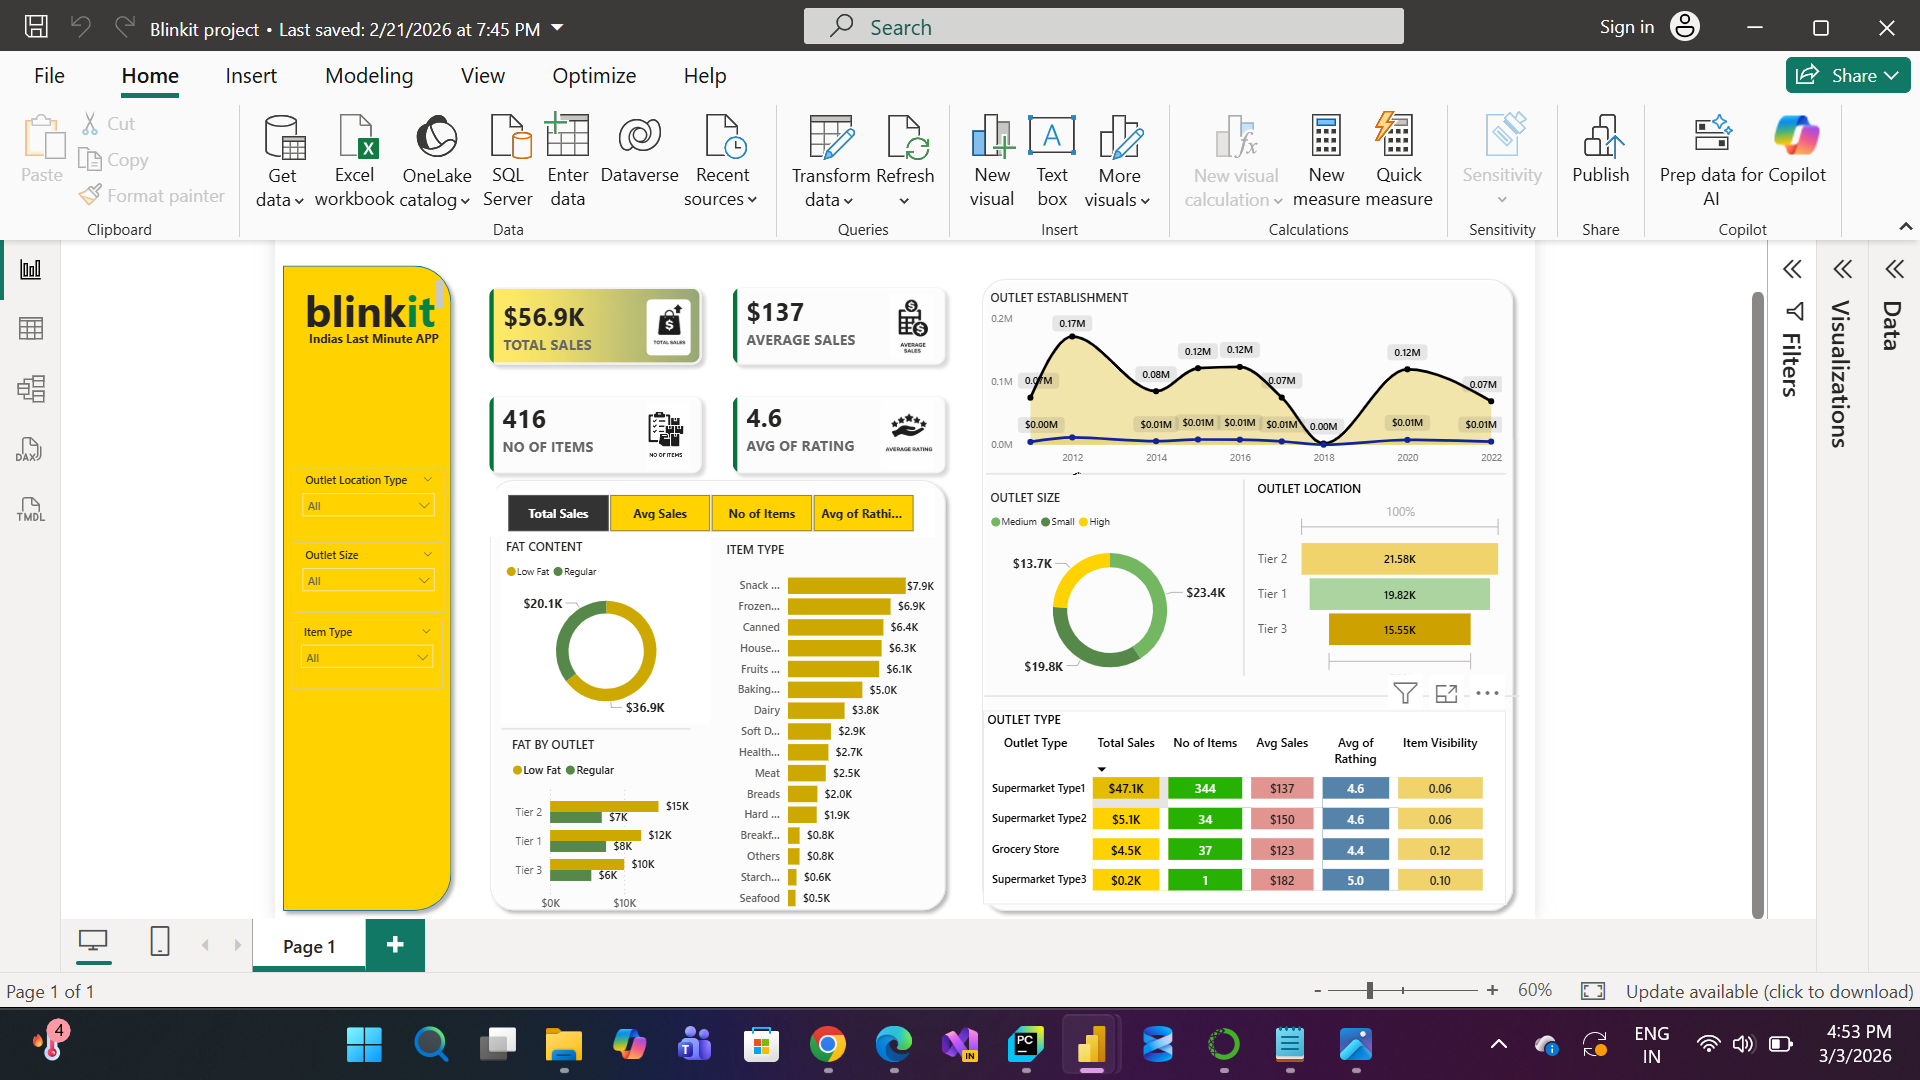

This screenshot's page, from the dashboard's own definition file:
{"tool":"powerbi","page":{"name":"Page 1","canvas":[1400,800],"ordinal":0},"visuals":[{"type":"shape","box":[0,65,205,735],"z":0},{"type":"textbox","box":[15,85,176.7,73.3],"z":1000},{"type":"textbox","box":[28.3,140,163.3,36.7],"z":2000},{"type":"cardVisual","fields":{"Data":["BlinkIT Grocery Data.Total Sales","BlinkIT Grocery Data.Avg Sales","BlinkIT Grocery Data.No of Items","BlinkIT Grocery Data.Avg of Rathing"]},"box":[206,66,570,270],"z":3000},{"type":"shape","box":[230,304,524,496],"z":4000},{"type":"slicer","fields":{"Values":["Metrics.Metrics"]},"box":[234,322,500,54],"z":5000},{"type":"donutChart","title":"FAT CONTENT","fields":{"Y":["BlinkIT Grocery Data.Total Sales"],"Category":["BlinkIT Grocery Data.Item Fat Content"]},"box":[252,376,232,206],"z":6000},{"type":"clusteredBarChart","title":"FAT BY OUTLET","fields":{"Y":["BlinkIT Grocery Data.Total Sales"],"Category":["BlinkIT Grocery Data.Outlet Location Type"],"Series":["BlinkIT Grocery Data.Item Fat Content"]},"box":[258,596,220,204],"z":7000},{"type":"shape","box":[252,582,210,14],"z":8000},{"type":"shape","box":[1070,306,10,222],"z":9000},{"type":"barChart","title":"ITEM TYPE","fields":{"Y":["BlinkIT Grocery Data.Total Sales"],"Category":["BlinkIT Grocery Data.Item Type"]},"box":[496,380,240,420],"z":10000},{"type":"shape","box":[776,80,608,720],"z":11000},{"type":"lineChart","title":"OUTLET ESTABLISHMENT","fields":{"Y":["Sum(BlinkIT Grocery Data.Outlet Establishment Year)","BlinkIT Grocery Data.Total Sales"],"Category":["BlinkIT Grocery Data.Outlet Establishment Year"]},"box":[790,100,578,204],"z":12000},{"type":"shape","box":[790,288,578,34],"z":13000},{"type":"donutChart","title":"OUTLET SIZE","fields":{"Y":["BlinkIT Grocery Data.Total Sales"],"Category":["BlinkIT Grocery Data.Outlet Size"]},"box":[790,322,275,225],"z":14000},{"type":"shape","box":[1066,312,20,218],"z":15000},{"type":"funnel","title":"OUTLET LOCATION","fields":{"Y":["Sum(BlinkIT Grocery Data.Sales)"],"Category":["BlinkIT Grocery Data.Outlet Location Type"]},"box":[1086,312,282,236],"z":17000},{"type":"shape","box":[788,544,594,18],"z":18000},{"type":"pivotTable","title":"OUTLET TYPE","fields":{"Rows":["BlinkIT Grocery Data.Outlet Type"],"Values":["BlinkIT Grocery Data.Total Sales","BlinkIT Grocery Data.No of Items","BlinkIT Grocery Data.Avg Sales","BlinkIT Grocery Data.Avg of Rathing","Avg(BlinkIT Grocery Data.Item Visibility)"]},"box":[786,568,582,216],"z":19000},{"type":"slicer","fields":{"Values":["BlinkIT Grocery Data.Outlet Location Type"]},"box":[20,298,168,78],"z":19001},{"type":"slicer","fields":{"Values":["BlinkIT Grocery Data.Outlet Size"]},"box":[20,382,168,78],"z":19002},{"type":"slicer","fields":{"Values":["BlinkIT Grocery Data.Item Type"]},"box":[18,466,168,78],"z":19003}]}

Visuals, with their boxes on the page's 1400x800 design canvas (x1, y1, x2, y2). These are canvas units, not pixel positions in the 1920x1080 screenshot, which may show the page scaled, cropped or inside an application window:
shape: (0,65,205,800)
textbox: (15,85,192,158)
textbox: (28,140,192,177)
cardVisual - BlinkIT Grocery Data.Total Sales x BlinkIT Grocery Data.Avg Sales: (206,66,776,336)
shape: (230,304,754,800)
slicer - Metrics.Metrics: (234,322,734,376)
"FAT CONTENT" donutChart: (252,376,484,582)
"FAT BY OUTLET" clusteredBarChart: (258,596,478,800)
shape: (252,582,462,596)
shape: (1070,306,1080,528)
"ITEM TYPE" barChart: (496,380,736,800)
shape: (776,80,1384,800)
"OUTLET ESTABLISHMENT" lineChart: (790,100,1368,304)
shape: (790,288,1368,322)
"OUTLET SIZE" donutChart: (790,322,1065,547)
shape: (1066,312,1086,530)
"OUTLET LOCATION" funnel: (1086,312,1368,548)
shape: (788,544,1382,562)
"OUTLET TYPE" pivotTable: (786,568,1368,784)
slicer - BlinkIT Grocery Data.Outlet Location Type: (20,298,188,376)
slicer - BlinkIT Grocery Data.Outlet Size: (20,382,188,460)
slicer - BlinkIT Grocery Data.Item Type: (18,466,186,544)
